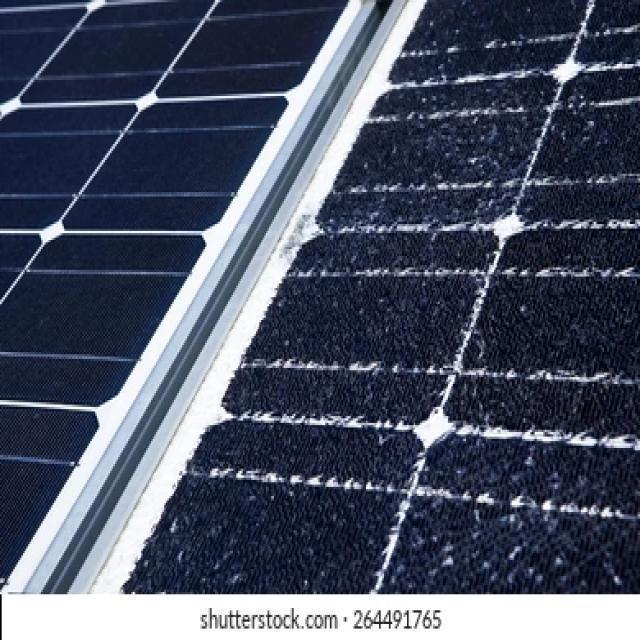Anomaly Solar Panel: (70, 0, 639, 592)
Normal Solar Panel: (0, 1, 350, 589)
Structural Damage: (122, 0, 590, 593), (371, 325, 639, 593)
